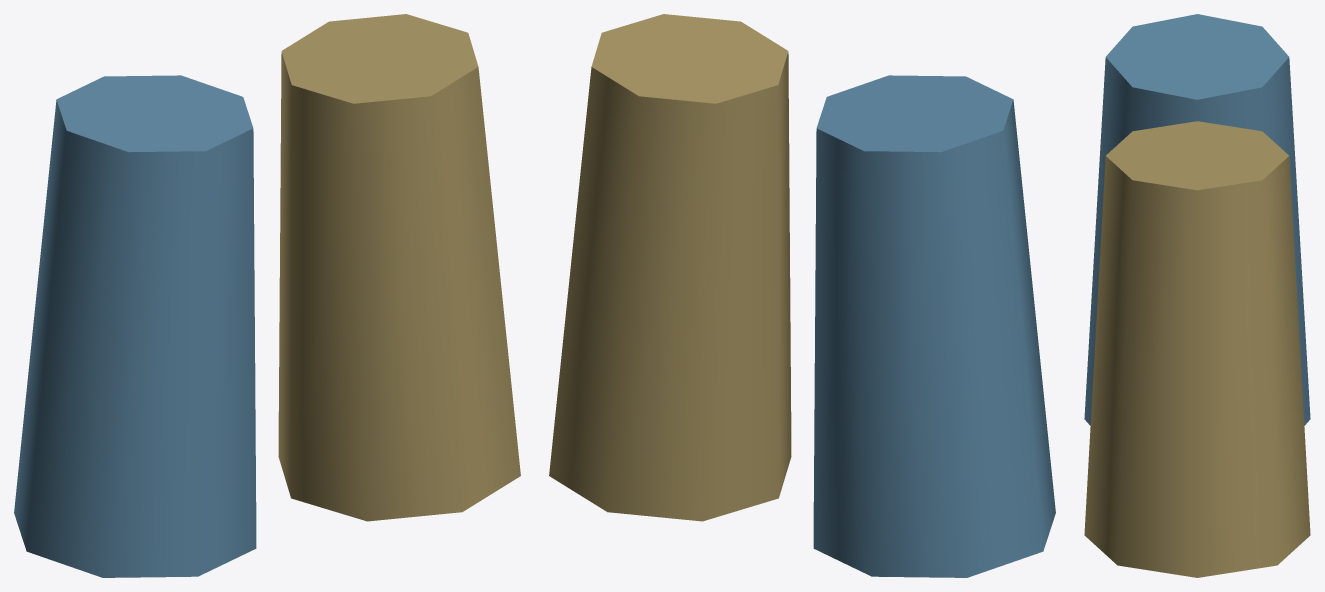
The model's file is legs.glb.
The picture shows the model from 3 angles, left to right: view 1: azimuth 30°, elevation 25°; view 2: azimuth 150°, elevation 25°; view 3: azimuth 270°, elevation 25°; orthographic projection. The views are drawn at different scales.
Parts seen in each view (by area): view 1: greave_-1, greave_1; view 2: greave_-1, greave_1; view 3: greave_1, greave_-1.
Part boxes in pixels (<box>): greave_-1: <box>14,75,256,577</box>; greave_1: <box>278,14,520,521</box>; greave_-1: <box>813,75,1055,577</box>; greave_1: <box>549,14,791,521</box>; greave_1: <box>1084,121,1310,577</box>; greave_-1: <box>1084,14,1310,425</box>.
Size of the model in its own units: 0.7086 by 0.5938 by 0.32.
